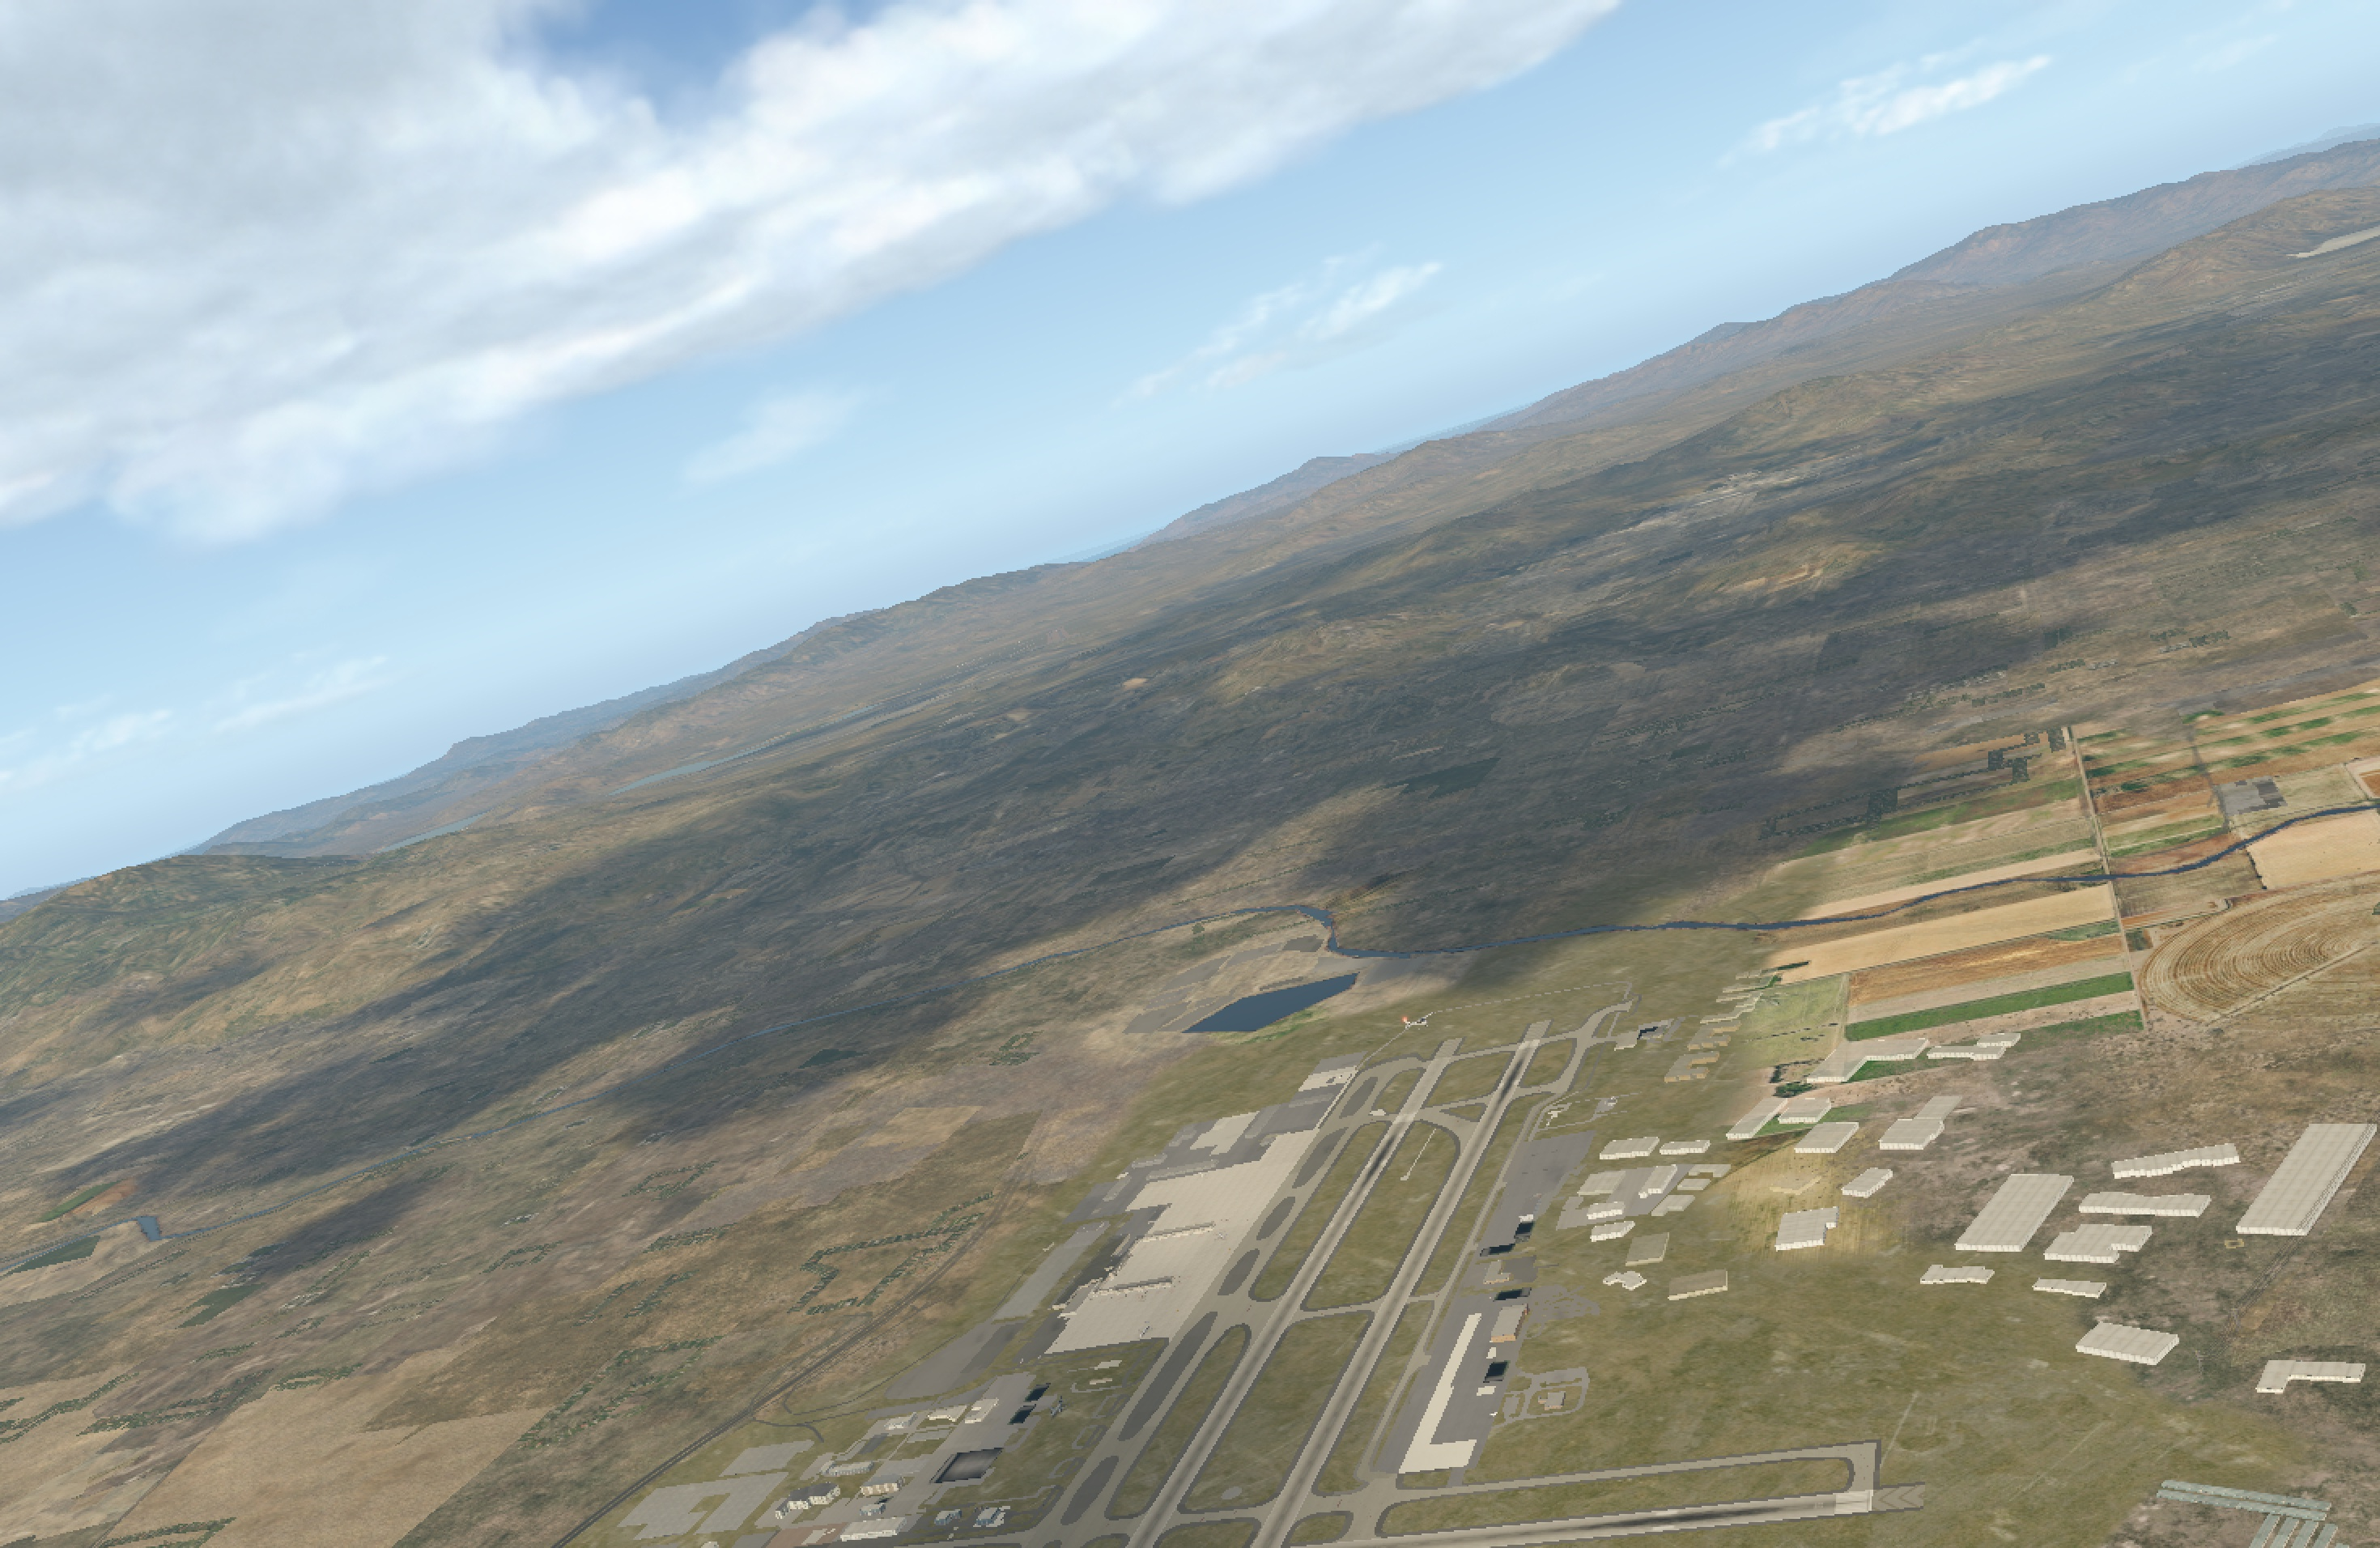aircraft: (1405, 1017, 1438, 1027)
